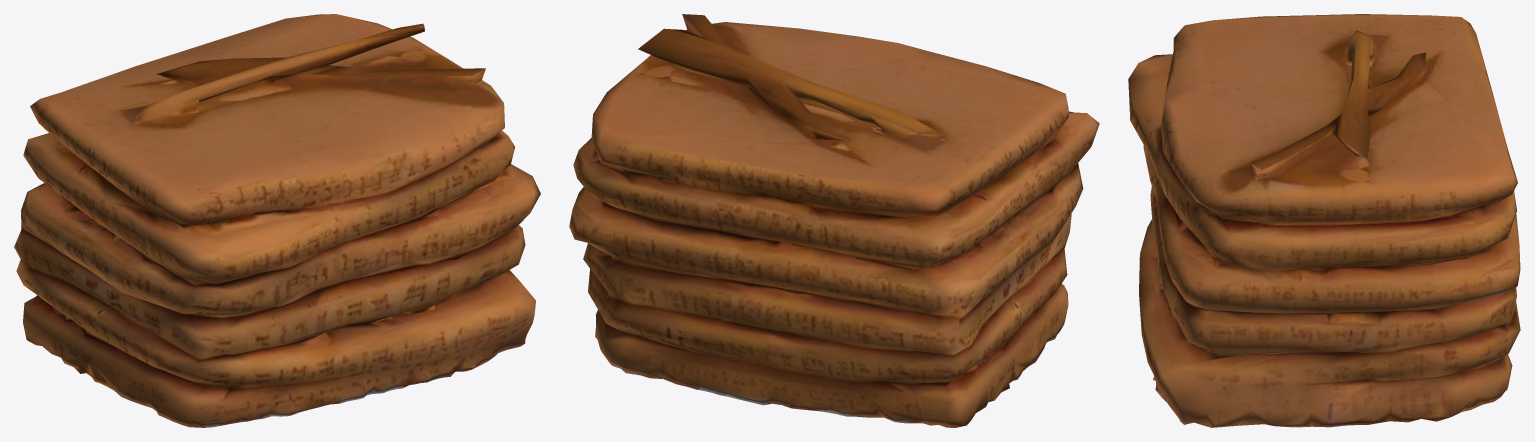
The model's file is prop_cuneiform_tablet_stack.glb.
3 renders of one model, left to right at view 1: azimuth 30°, elevation 25°; view 2: azimuth 150°, elevation 25°; view 3: azimuth 270°, elevation 25°, orthographic.
Parts seen in each view (by area): view 1: geometry_0; view 2: geometry_0; view 3: geometry_0.
Boxes of the visible parts, x1=… form: geometry_0: x1=14, y1=14, x2=540, y2=427; geometry_0: x1=569, y1=14, x2=1099, y2=427; geometry_0: x1=1128, y1=14, x2=1520, y2=427.
Size of the model in its own units: 1.25 by 0.797 by 1.03.
Materials: 1 (1 with a texture image).
